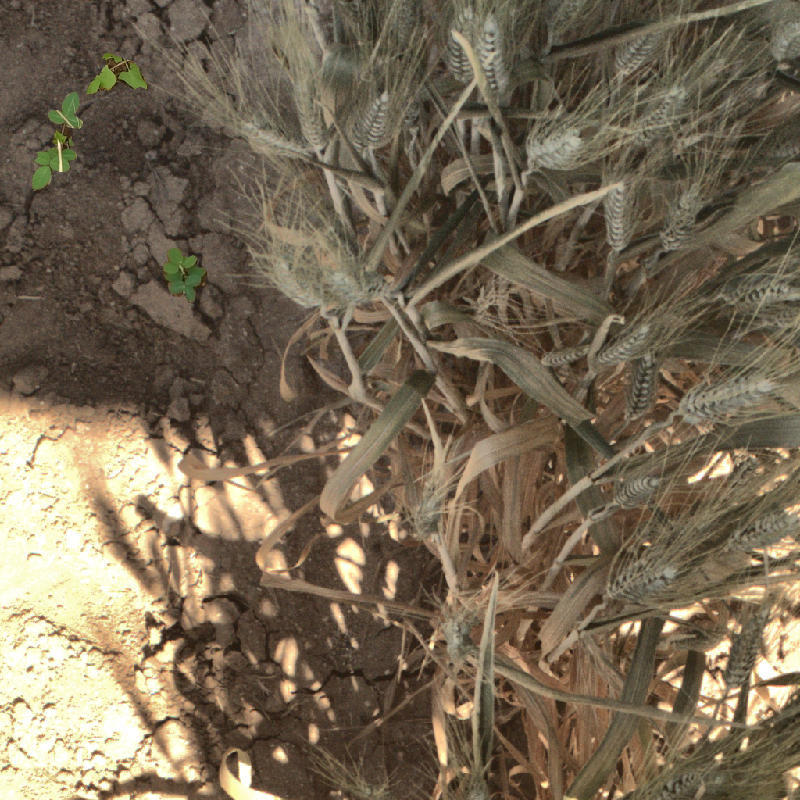spikelet: (675, 369, 776, 425), (599, 550, 681, 607), (610, 15, 678, 76), (721, 605, 770, 689), (628, 83, 691, 147), (626, 760, 725, 799), (473, 9, 513, 105), (724, 504, 799, 554), (716, 272, 799, 314), (657, 183, 705, 252), (290, 70, 328, 154), (593, 319, 655, 369), (236, 119, 309, 161), (523, 122, 585, 171), (352, 88, 397, 155), (621, 347, 660, 422), (601, 177, 636, 254), (445, 7, 478, 88), (325, 262, 383, 307), (408, 482, 447, 542), (607, 471, 664, 511), (544, 1, 596, 42), (767, 3, 799, 66), (380, 1, 424, 44), (438, 612, 476, 660), (537, 342, 588, 370)
weed: (81, 47, 157, 121), (32, 92, 83, 191), (163, 248, 207, 303)
